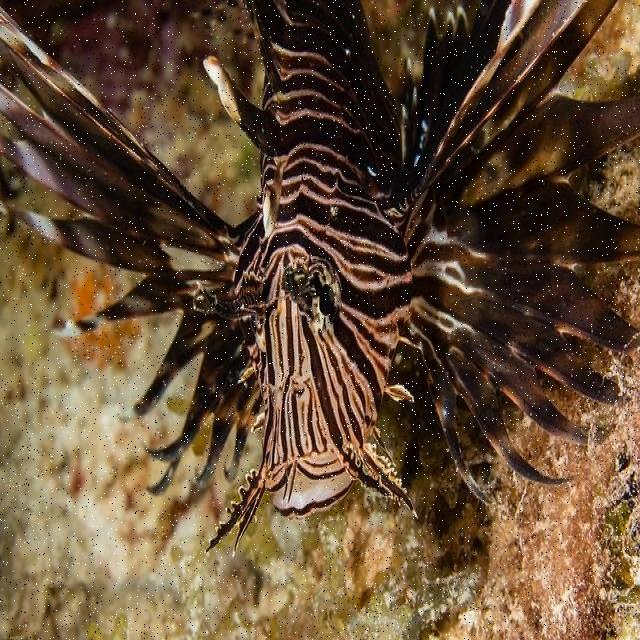fish: (0, 0, 639, 554)
